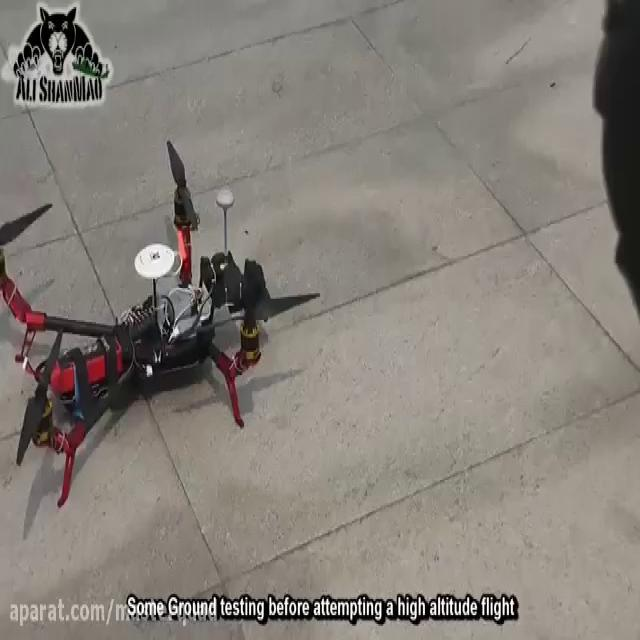drone: (0, 133, 324, 514)
